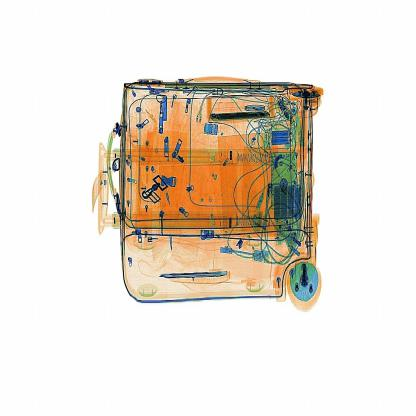pliers: (161, 267, 238, 286)
